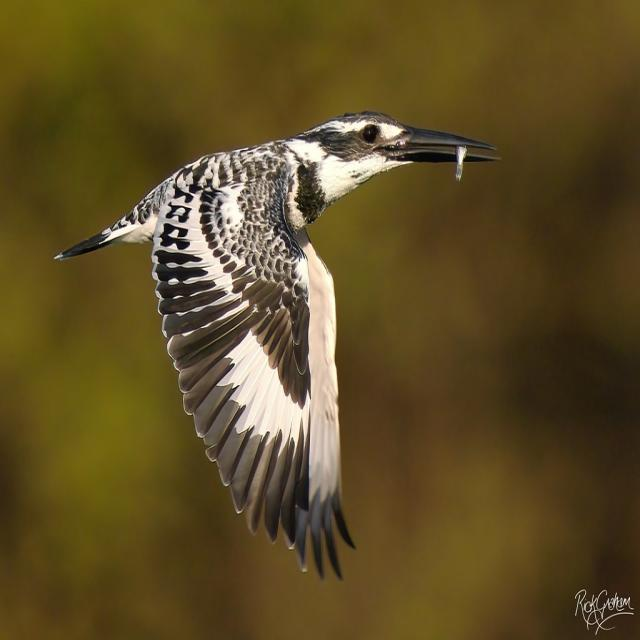kingfisher: (33, 48, 566, 592)
